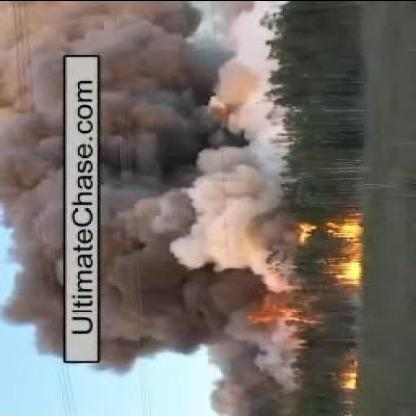-: (102, 7, 270, 370), (3, 20, 65, 362)
foggia-v2-map80-epoch100 - v1 4323: (334, 259, 362, 285), (332, 218, 364, 238)
